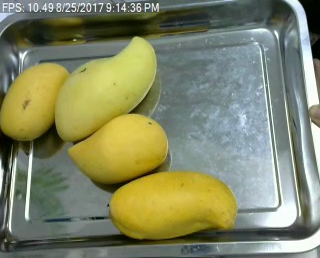Mango: (53, 29, 159, 142), (110, 169, 241, 242), (67, 113, 170, 188), (0, 60, 75, 144)
